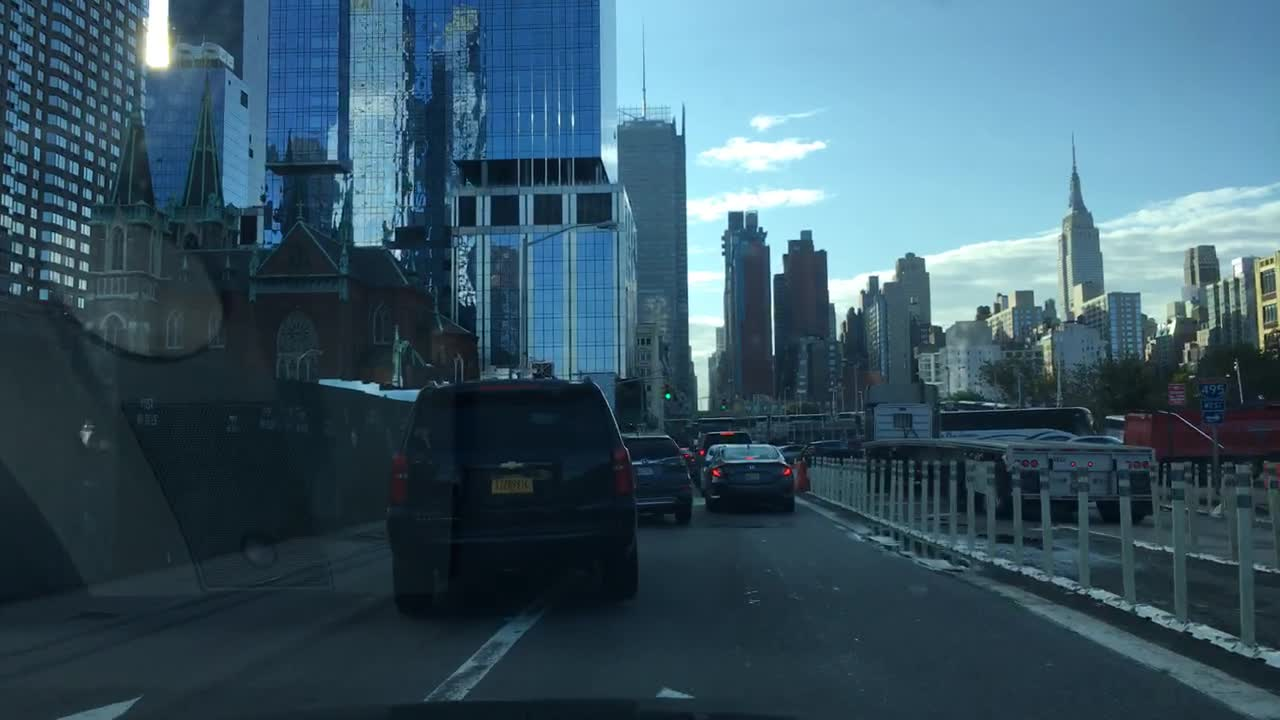bus: (936, 408, 1098, 439)
car: (386, 372, 644, 620), (613, 430, 699, 527), (699, 442, 794, 516), (696, 427, 748, 488), (968, 429, 1065, 456), (1022, 434, 1129, 448), (782, 453, 816, 488), (800, 438, 855, 458), (779, 442, 814, 461), (681, 445, 696, 476)
traffic light: (664, 378, 673, 399), (718, 393, 727, 410)
traffic sign: (1200, 375, 1227, 421), (1166, 378, 1186, 408)
